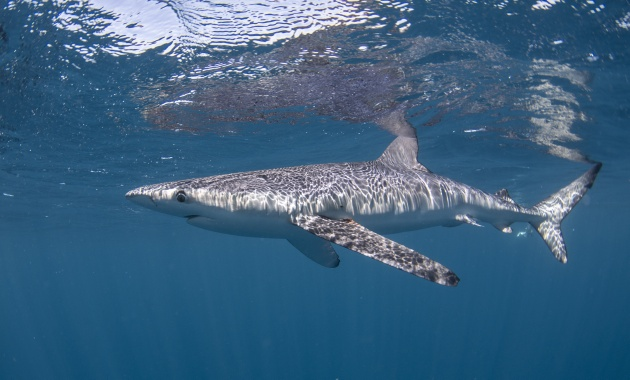Azul: (109, 117, 618, 304)
